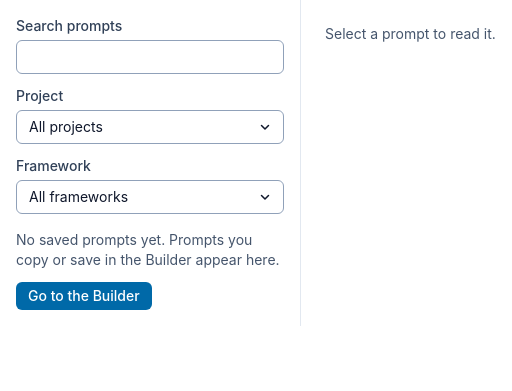
Test case: HistoryView list pane › framework_filter_marks_a_deleted_framework
Click the dropdown labelled "framework".
click(79, 196)  # box [16,180,284,214]
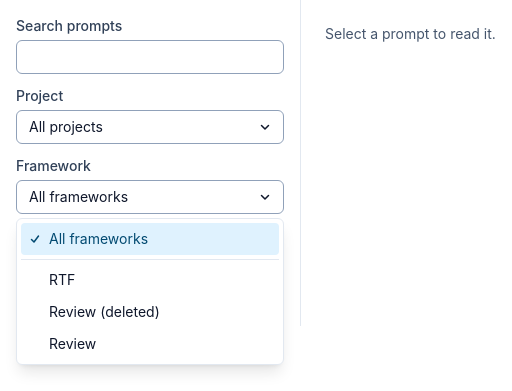
Expected: the option "Review (deleted)" is shown, [49,303,160,320]
Expected: the number of options "Review" is 1, [49,335,96,352]
